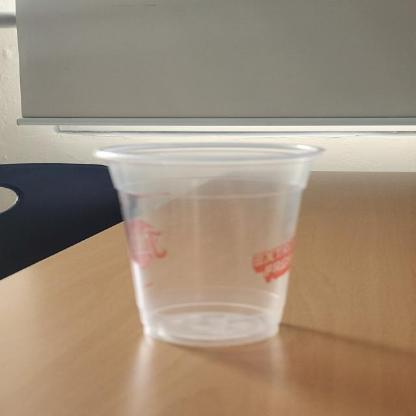Plastic Cup: (92, 140, 328, 346)
